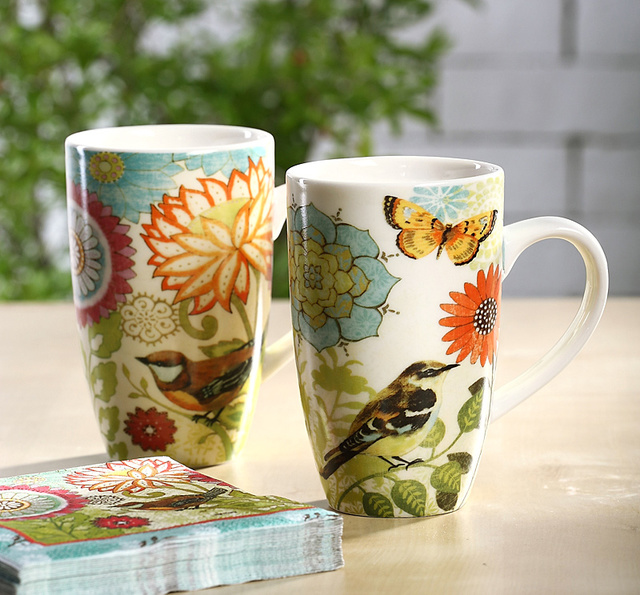cup: (283, 151, 616, 527), (59, 122, 325, 473)
